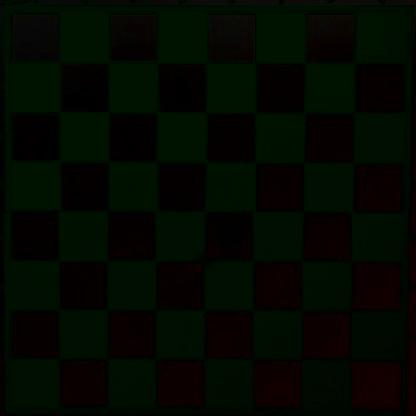black-pawn: (212, 218, 247, 254)
